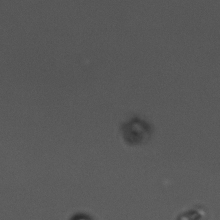Dead Cell: (122, 115, 153, 146)
